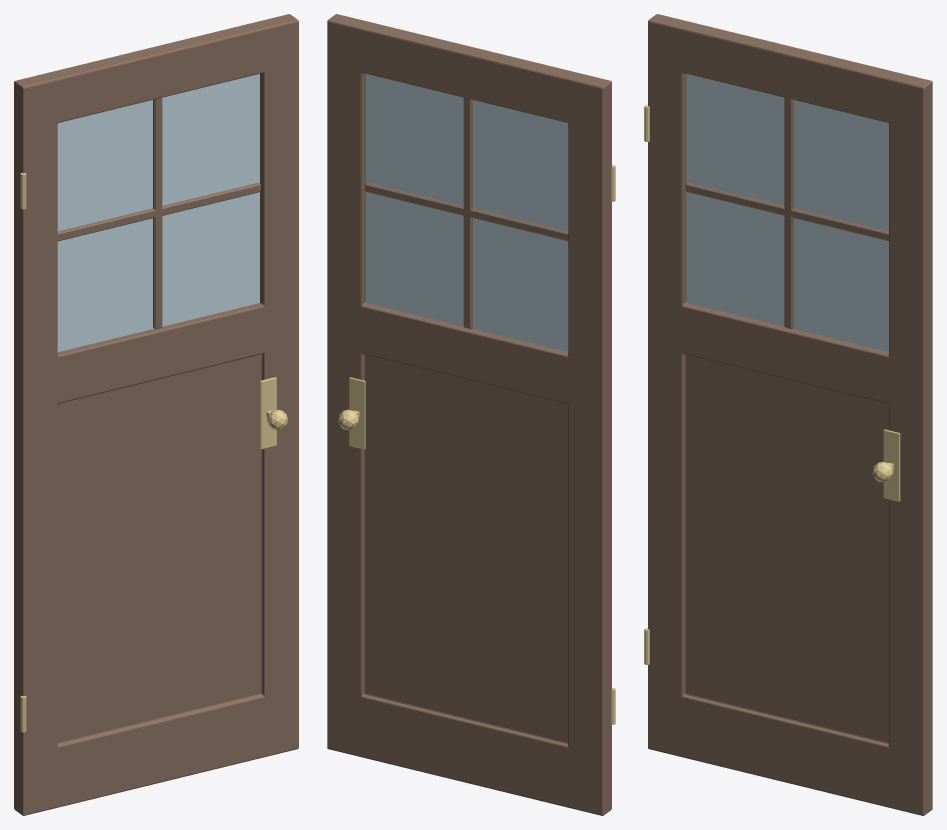
Rendered from door_leaf_back.glb.
The picture shows the model from 3 angles, left to right: view 1: azimuth 30°, elevation 25°; view 2: azimuth 150°, elevation 25°; view 3: azimuth 330°, elevation 25°; orthographic projection.
Visible parts, largest first — view 1: door_leaf_back_door, door_leaf_back_glass, door_leaf_back_brass; view 2: door_leaf_back_door, door_leaf_back_glass, door_leaf_back_brass; view 3: door_leaf_back_door, door_leaf_back_glass, door_leaf_back_brass.
Part boxes in pixels (x1=…): door_leaf_back_door: x1=14, y1=14, x2=298, y2=815; door_leaf_back_glass: x1=57, y1=74, x2=259, y2=351; door_leaf_back_brass: x1=20, y1=173, x2=287, y2=732; door_leaf_back_door: x1=327, y1=14, x2=611, y2=815; door_leaf_back_glass: x1=366, y1=74, x2=568, y2=351; door_leaf_back_brass: x1=338, y1=165, x2=615, y2=724; door_leaf_back_door: x1=648, y1=14, x2=932, y2=815; door_leaf_back_glass: x1=686, y1=74, x2=888, y2=351; door_leaf_back_brass: x1=644, y1=105, x2=900, y2=664.
Size of the model in its own units: 0.848 by 2.12 by 0.206.
